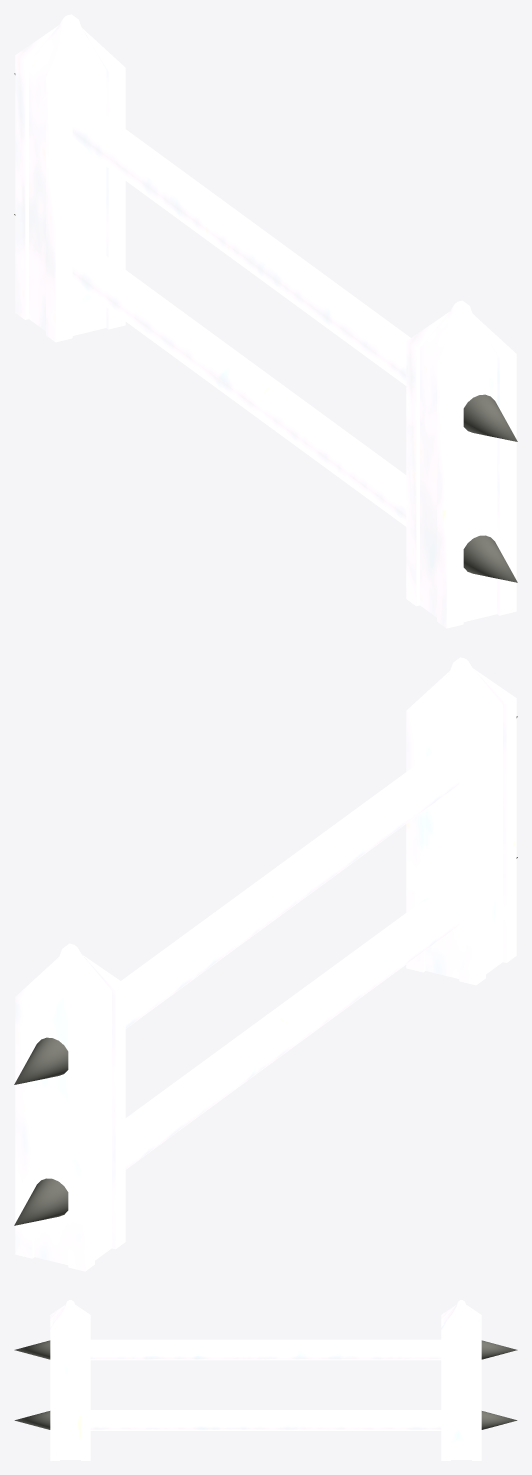
File: CA_015_iron_ladder_var1.glb
3 renders of one model, top to bottom at view 1: azimuth 30°, elevation 25°; view 2: azimuth 150°, elevation 25°; view 3: azimuth 270°, elevation 25°, orthographic. The views are drawn at different scales.
Visible parts, largest first — view 1: ladder_support, ladder_bars, spikes; view 2: ladder_support, ladder_bars, spikes; view 3: ladder_bars, ladder_support, spikes.
Part boxes in pixels (left/top/right/bottom): ladder_support: left=15, top=14, right=516, bottom=628; ladder_bars: left=72, top=108, right=410, bottom=526; spikes: left=14, top=73, right=517, bottom=582; ladder_support: left=15, top=657, right=516, bottom=1271; ladder_bars: left=121, top=751, right=459, bottom=1169; spikes: left=14, top=716, right=517, bottom=1225; ladder_bars: left=90, top=1339, right=441, bottom=1430; ladder_support: left=50, top=1300, right=481, bottom=1460; spikes: left=14, top=1340, right=517, bottom=1429.
Bounding box in the file's own units: 0.18 × 0.7498 × 2.25.
2 materials, 1 textured.
